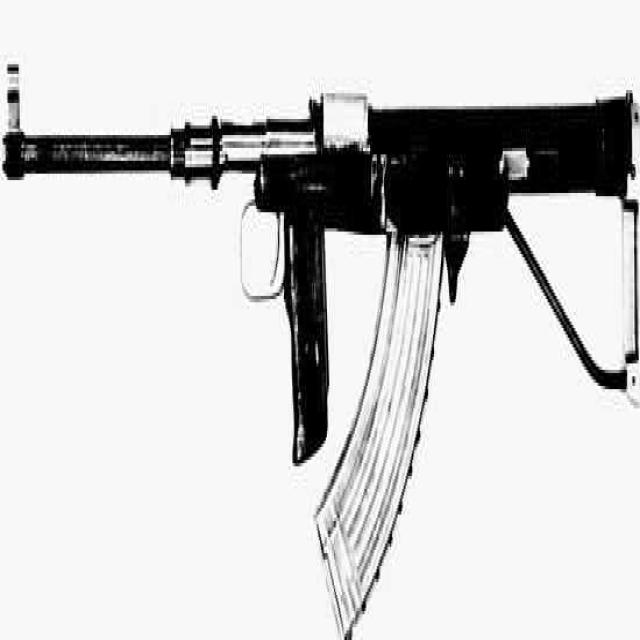Rifle: (4, 38, 639, 434)
